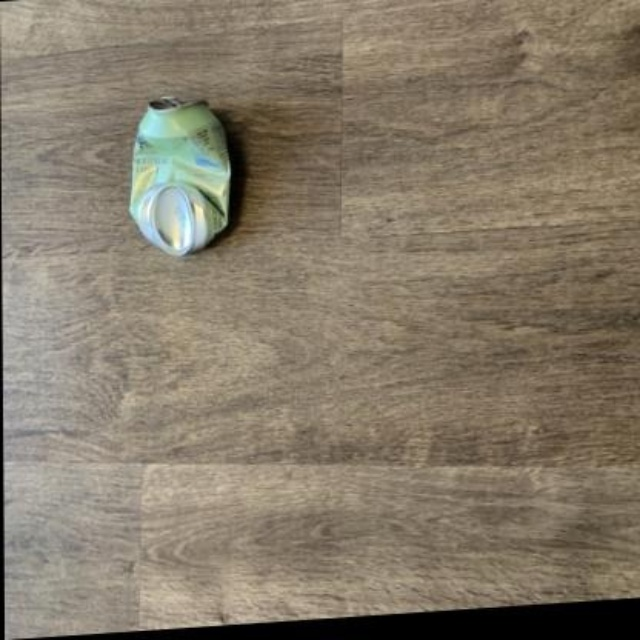trash: (129, 98, 229, 254)
